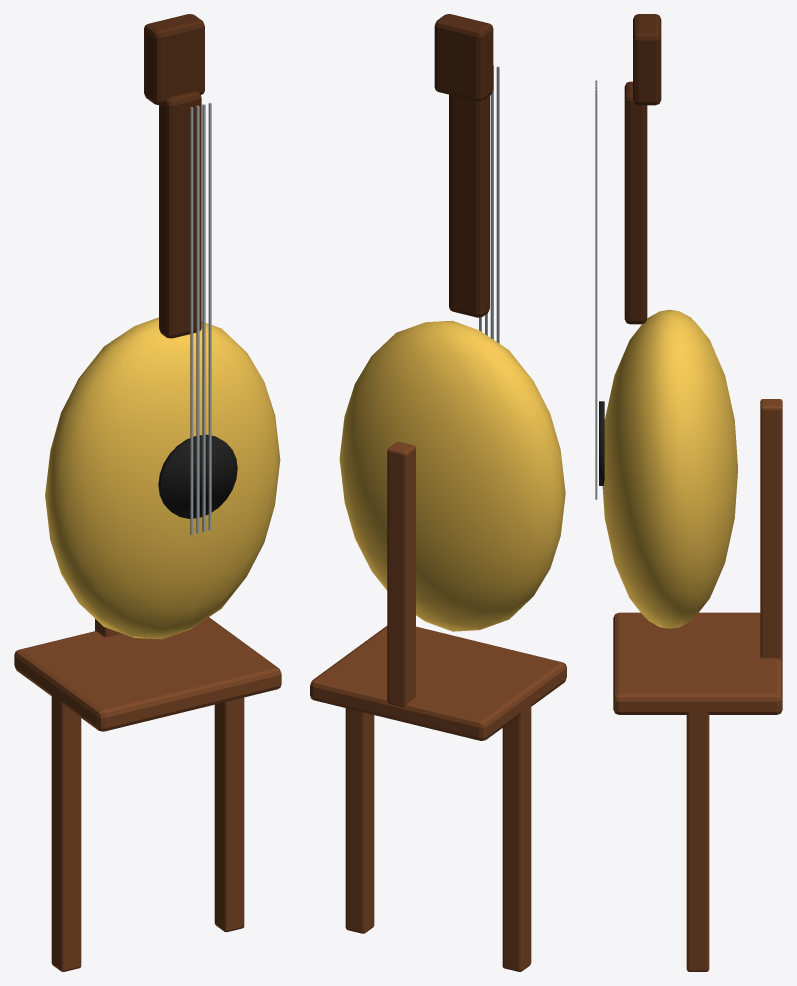
File: mandolino-oro.glb
3 renders of one model, left to right at view 1: azimuth 30°, elevation 25°; view 2: azimuth 150°, elevation 25°; view 3: azimuth 270°, elevation 25°, orthographic. The views are drawn at different scales.
Visible parts, largest first — view 1: Icosphere, Cube.006, Cube, Cube.008, Cube.009, Cube.001, Cylinder, Cube.003, Cube.004, Cube.005, Cube.002; view 2: Icosphere, Cube.006, Cube, Cube.008, Cube.007, Cube.009, Cube.001, Cube.002, Cube.003; view 3: Icosphere, Cube.006, Cube.009, Cube.007, Cube, Cube.001, Cube.005, Cylinder.
Boxes of the visible parts, box(x1,y1,x2,y2) form: Icosphere: box(45, 317, 280, 639); Cube.006: box(14, 617, 281, 731); Cube: box(159, 91, 201, 338); Cube.008: box(51, 694, 81, 971); Cube.009: box(214, 697, 244, 932); Cube.001: box(144, 14, 204, 104); Cylinder: box(158, 434, 237, 518); Cube.003: box(196, 105, 199, 533); Cube.004: box(202, 104, 205, 532); Cube.005: box(208, 102, 211, 530); Cube.002: box(190, 107, 193, 534); Icosphere: box(339, 320, 565, 631); Cube.006: box(310, 626, 566, 740); Cube: box(449, 94, 489, 317); Cube.008: box(502, 705, 531, 971); Cube.007: box(387, 442, 415, 707); Cube.009: box(345, 708, 374, 933); Cube.001: box(434, 14, 493, 101); Cube.002: box(496, 66, 499, 343); Cube.003: box(490, 65, 493, 339); Icosphere: box(602, 309, 737, 628); Cube.006: box(613, 612, 782, 714); Cube.009: box(686, 712, 709, 971); Cube.007: box(760, 399, 782, 660); Cube: box(624, 81, 647, 324); Cube.001: box(633, 14, 661, 105); Cube.005: box(595, 89, 597, 499); Cylinder: box(599, 401, 604, 485).
Bounding box in the file's own units: 0.44 × 1.77 × 0.332.
